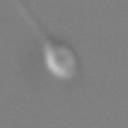normal: (13, 1, 51, 44)
